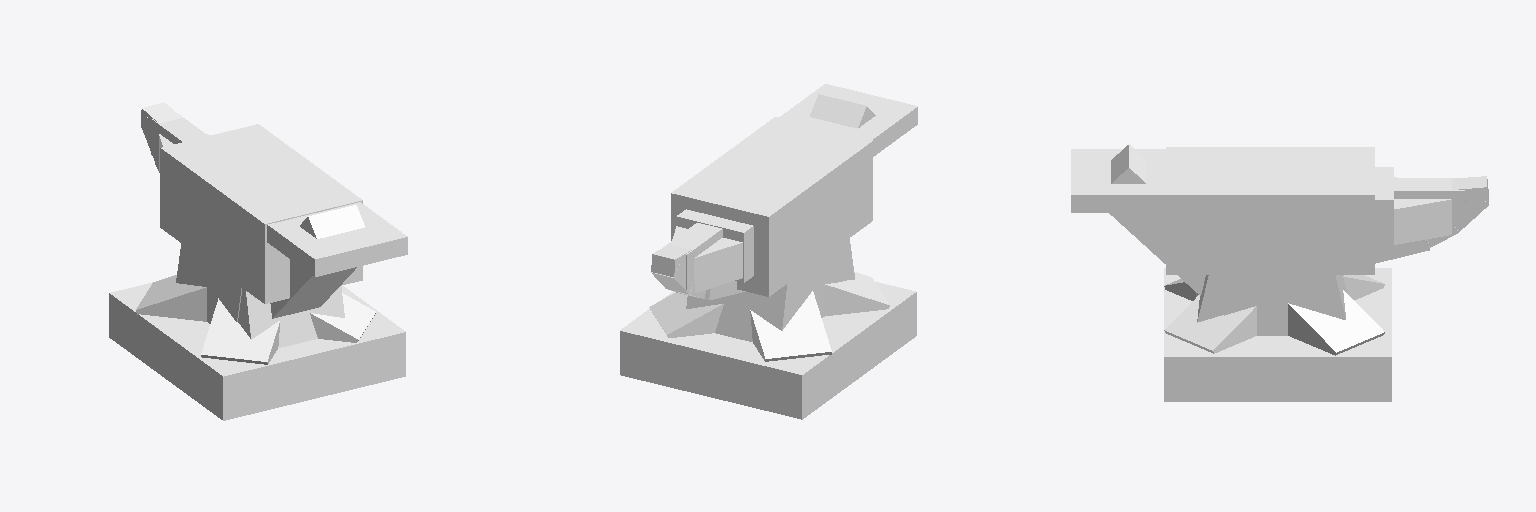
The model's file is small_anvil.obj.
3 renders of one model, left to right at view 1: azimuth 30°, elevation 25°; view 2: azimuth 150°, elevation 25°; view 3: azimuth 270°, elevation 25°, orthographic.
Visible parts, largest first — view 1: cube.035, cube.046, cube.036, cube.039, cube.047, cube.049, cube.052, cube.048, cube.050, cube.038, cube.037; view 2: cube.035, cube.046, cube.048, cube.036, cube.052, cube.051, cube.040, cube.047, cube.044, cube.039, cube.038, cube.037 (+1 smaller); view 3: cube.035, cube.046, cube.048, cube.036, cube.051, cube.039, cube.050, cube.041, cube.038, cube.044, cube.049, cube.052 (+2 smaller).
Part boxes in pixels (left/top/right/bottom): cube.035: left=160, top=124, right=362, bottom=303; cube.046: left=109, top=282, right=405, bottom=420; cube.036: left=267, top=202, right=407, bottom=276; cube.039: left=270, top=205, right=364, bottom=318; cube.047: left=201, top=298, right=279, bottom=364; cube.049: left=238, top=286, right=344, bottom=347; cube.052: left=136, top=275, right=206, bottom=321; cube.048: left=176, top=243, right=241, bottom=323; cube.050: left=310, top=293, right=375, bottom=342; cube.038: left=151, top=113, right=207, bottom=157; cube.037: left=141, top=102, right=181, bottom=124; cube.035: left=671, top=117, right=872, bottom=296; cube.046: left=620, top=282, right=916, bottom=419; cube.048: left=686, top=240, right=847, bottom=341; cube.036: left=779, top=84, right=917, bottom=156; cube.052: left=750, top=291, right=831, bottom=361; cube.051: left=649, top=293, right=723, bottom=337; cube.040: left=694, top=238, right=742, bottom=292; cube.047: left=825, top=272, right=889, bottom=315; cube.044: left=676, top=209, right=753, bottom=282; cube.039: left=810, top=94, right=875, bottom=128; cube.038: left=664, top=223, right=722, bottom=289; cube.037: left=651, top=244, right=691, bottom=276; cube.035: left=1166, top=147, right=1374, bottom=274; cube.046: left=1164, top=268, right=1391, bottom=401; cube.048: left=1215, top=275, right=1347, bottom=335; cube.036: left=1071, top=149, right=1165, bottom=212; cube.051: left=1288, top=290, right=1384, bottom=355; cube.039: left=1109, top=144, right=1205, bottom=295; cube.050: left=1164, top=295, right=1256, bottom=353; cube.041: left=1394, top=199, right=1451, bottom=244; cube.038: left=1394, top=178, right=1464, bottom=225; cube.044: left=1375, top=167, right=1393, bottom=249; cube.049: left=1195, top=275, right=1223, bottom=322; cube.052: left=1343, top=275, right=1384, bottom=299.
Bounding box in the file's own units: 0.6778 × 0.7057 × 1.33.